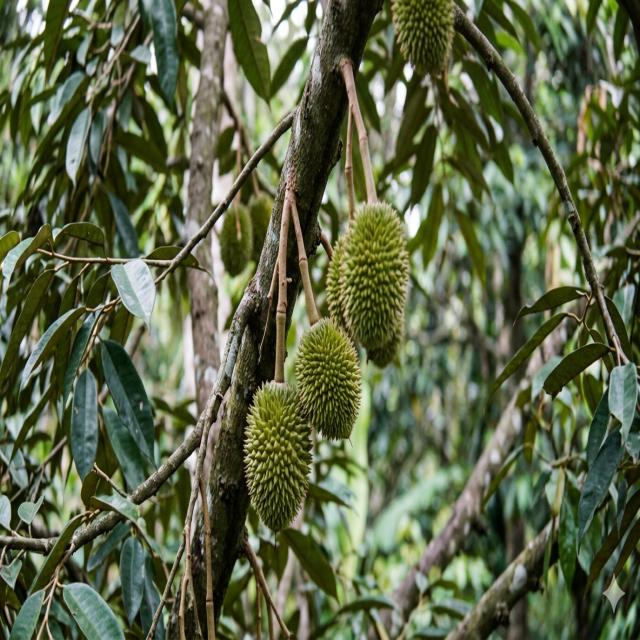immature: (331, 198, 412, 362), (242, 379, 314, 533), (294, 318, 362, 442), (391, 1, 455, 78), (324, 231, 355, 336), (220, 202, 253, 276), (249, 195, 273, 259)
